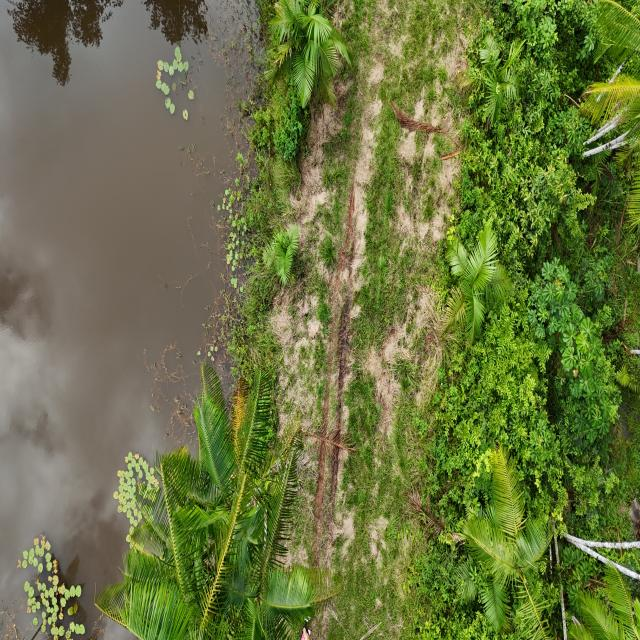vegetation: (94, 358, 342, 639)
